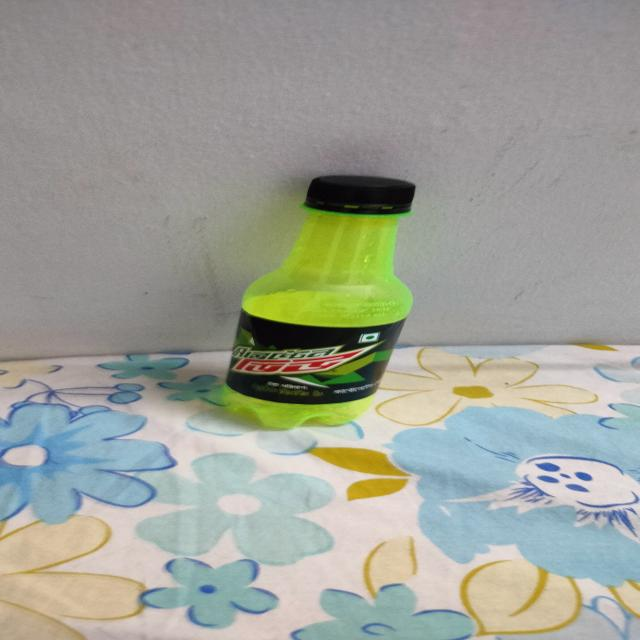Bottle: (223, 172, 418, 428)
